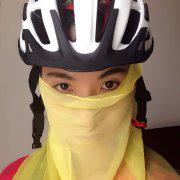OK: (43, 67, 131, 155)
